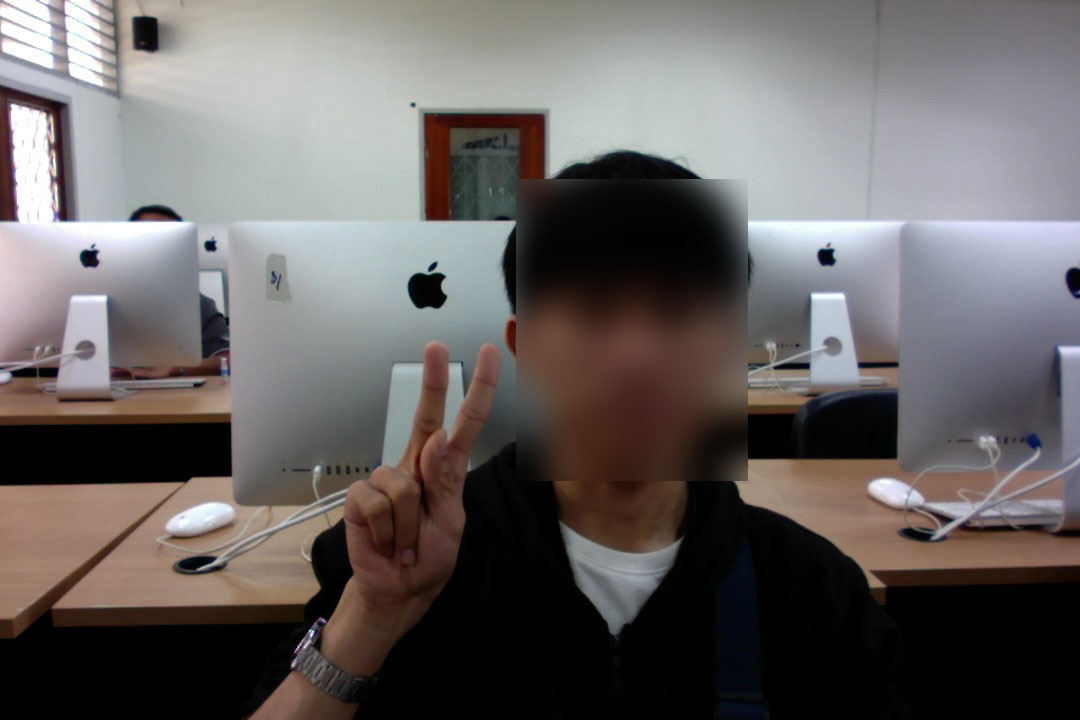ko: (317, 327, 521, 592)
